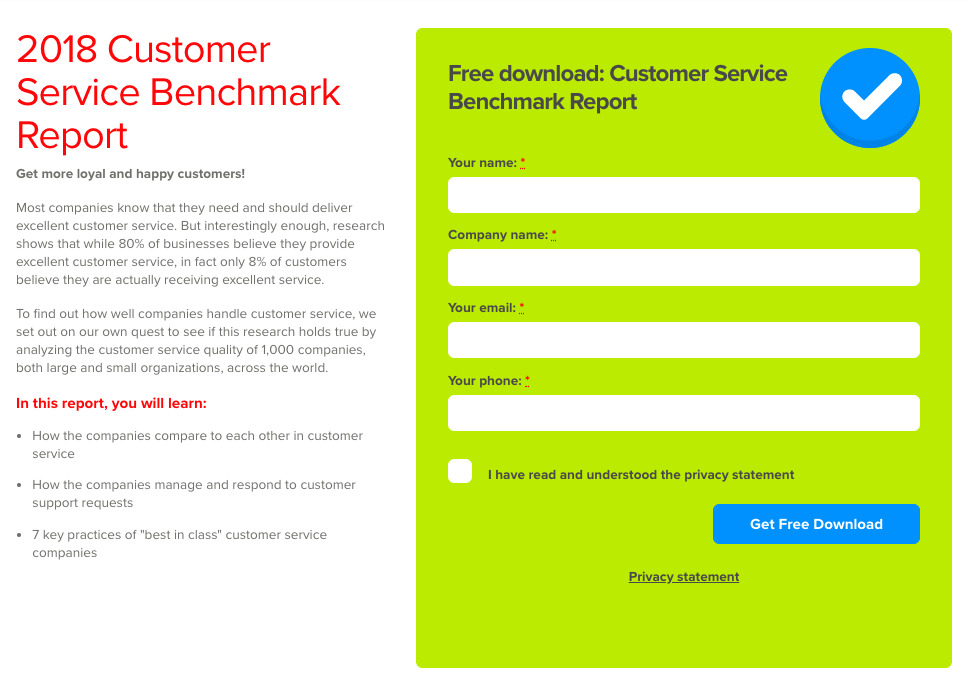_form_: (435, 154, 929, 552)
button: (712, 502, 923, 546)
checkbox: (444, 455, 474, 486)
checkbox_with_label: (440, 451, 793, 488)
field: (444, 246, 924, 288), (445, 174, 923, 215), (445, 393, 922, 434), (445, 321, 924, 361)
field_with_label: (441, 155, 927, 218), (440, 228, 926, 291), (443, 302, 927, 364), (442, 375, 924, 437)
